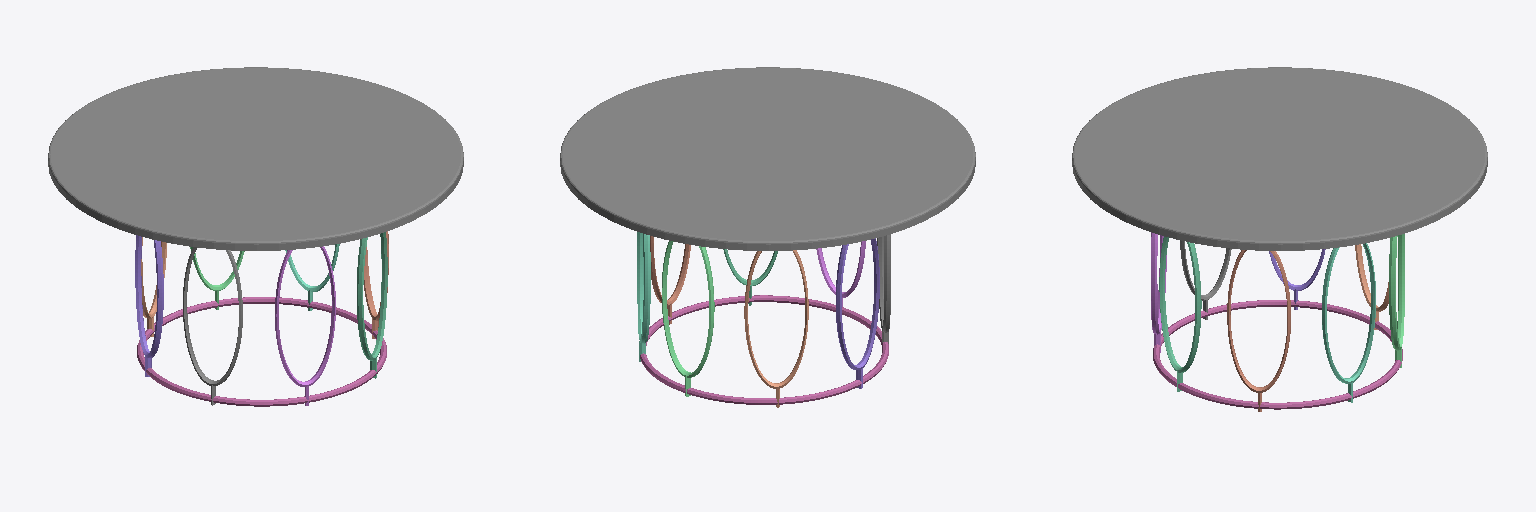
File: circletable.obj
3 views of the same model, side by side, from view 1: azimuth 30°, elevation 25°; view 2: azimuth 150°, elevation 25°; view 3: azimuth 270°, elevation 25° (orthographic).
Parts seen in each view (by area): view 1: Cylinder001, Circle005, Line102, Line099, Line100, Line101, Line103; view 2: Cylinder001, Circle005, Line099, Line097, Line096, Line098, Line100, Line103, Line101; view 3: Cylinder001, Circle005, Line102, Line097, Line096, Line103, Line101, Line100, Line098.
Boxes of the visible parts, x1=… form: Cylinder001: x1=48, y1=67, x2=463, y2=250; Circle005: x1=137, y1=297, x2=386, y2=406; Line102: x1=357, y1=232, x2=387, y2=378; Line099: x1=135, y1=235, x2=163, y2=376; Line100: x1=183, y1=247, x2=242, y2=405; Line101: x1=275, y1=246, x2=335, y2=405; Line103: x1=360, y1=231, x2=388, y2=338; Cylinder001: x1=560, y1=67, x2=975, y2=250; Circle005: x1=640, y1=295, x2=888, y2=404; Line099: x1=836, y1=238, x2=879, y2=388; Line097: x1=662, y1=241, x2=714, y2=396; Line096: x1=637, y1=232, x2=650, y2=361; Line098: x1=744, y1=250, x2=808, y2=407; Line100: x1=877, y1=234, x2=890, y2=343; Line103: x1=650, y1=236, x2=690, y2=324; Line101: x1=816, y1=241, x2=865, y2=306; Cylinder001: x1=1072, y1=67, x2=1487, y2=250; Circle005: x1=1153, y1=300, x2=1402, y2=409; Line102: x1=1159, y1=236, x2=1201, y2=391; Line097: x1=1389, y1=234, x2=1404, y2=367; Line096: x1=1322, y1=243, x2=1375, y2=402; Line103: x1=1227, y1=250, x2=1290, y2=411; Line101: x1=1151, y1=232, x2=1166, y2=352; Line100: x1=1180, y1=240, x2=1231, y2=319; Line098: x1=1355, y1=244, x2=1388, y2=329.
Size of the model in its own units: 33.63 by 18.12 by 33.63.